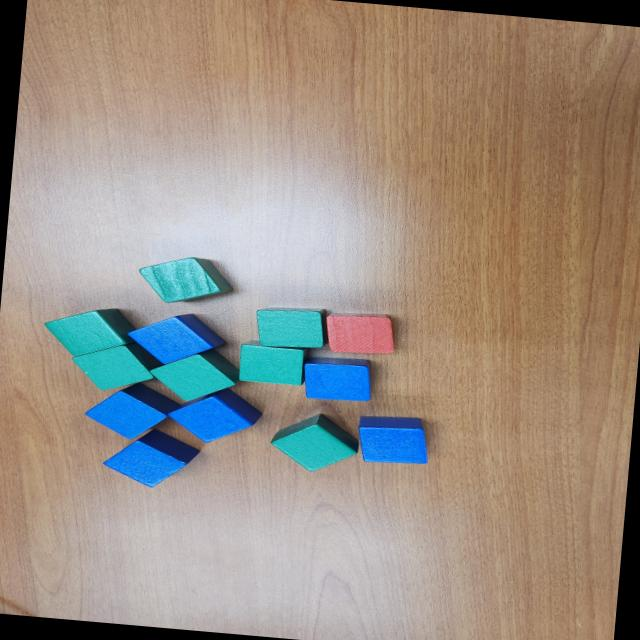blue: (100, 424, 203, 491), (121, 307, 229, 370), (82, 377, 183, 443), (164, 382, 266, 446), (354, 412, 432, 468), (298, 353, 376, 404)
green: (267, 408, 361, 476), (146, 342, 244, 407), (40, 301, 142, 361), (134, 252, 237, 308), (68, 336, 165, 395), (253, 302, 329, 350), (234, 338, 310, 386)
red: (320, 308, 398, 359)
